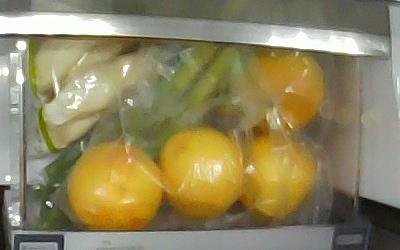grapefruit_vinyl: (67, 141, 161, 229), (159, 128, 243, 218), (240, 134, 319, 219), (245, 49, 325, 131)
